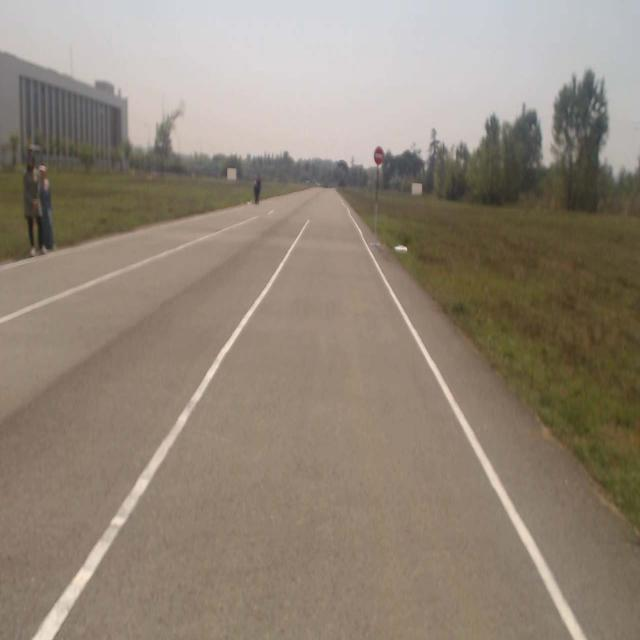girisyok: (373, 145, 385, 166)
